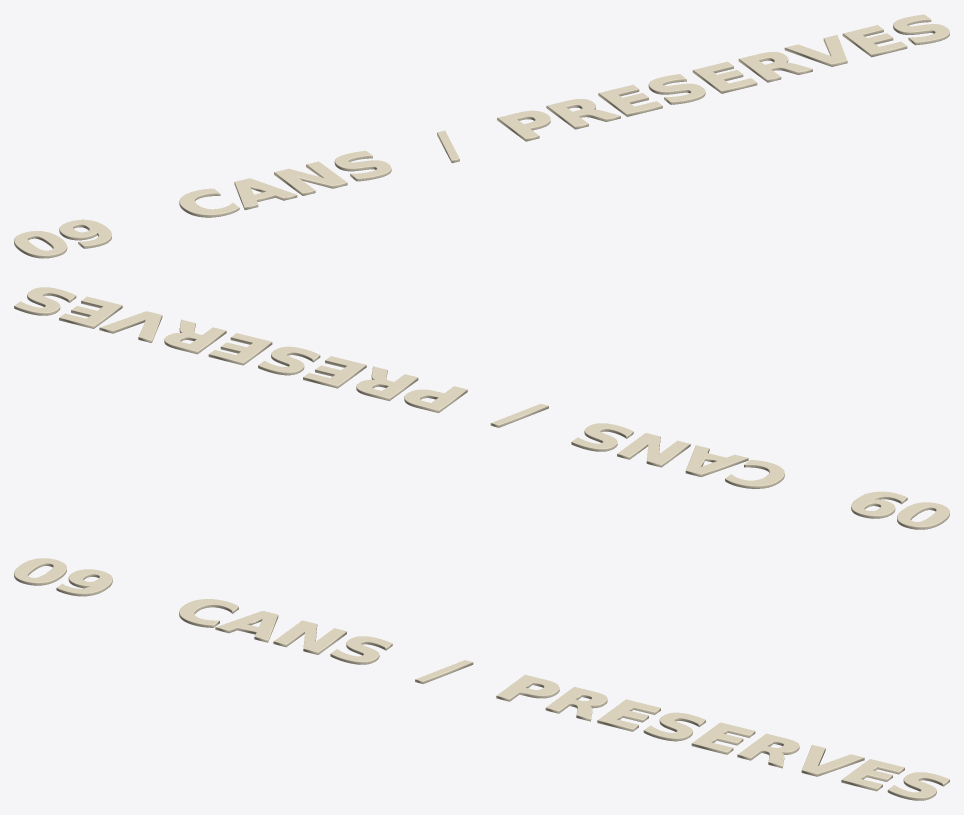
The model's file is SM_EG_Aisle_designation_f92b7f3690.fbx.
3 renders of one model, top to bottom at view 1: azimuth 30°, elevation 25°; view 2: azimuth 150°, elevation 25°; view 3: azimuth 330°, elevation 25°, orthographic.
Visible parts, largest first — view 1: SM_EG_Aisle_designation_f92b7f3690; view 2: SM_EG_Aisle_designation_f92b7f3690; view 3: SM_EG_Aisle_designation_f92b7f3690.
Boxes of the visible parts, x1,y1,x2,y2 form: SM_EG_Aisle_designation_f92b7f3690: (14,14,949,258); SM_EG_Aisle_designation_f92b7f3690: (14,287,949,529); SM_EG_Aisle_designation_f92b7f3690: (14,558,949,800).
Bounding box in the file's own units: 138 × 8.54 × 0.44.
